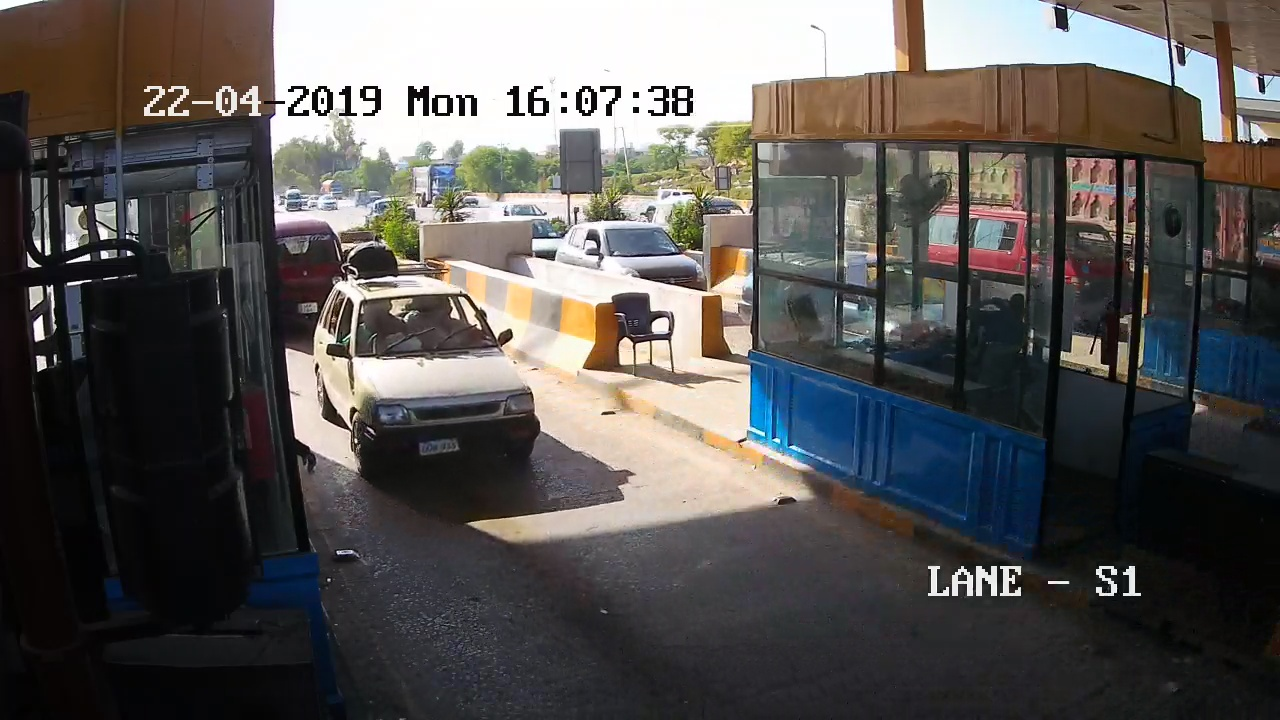Number Plate (Car): (416, 438, 463, 455), (298, 302, 316, 314)
